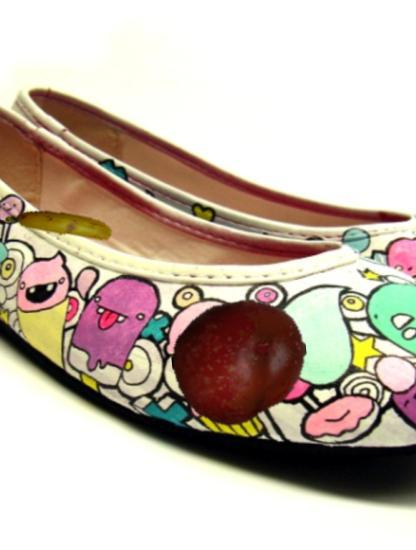Banana: (3, 167, 115, 279)
Nectarine: (172, 295, 308, 431)
